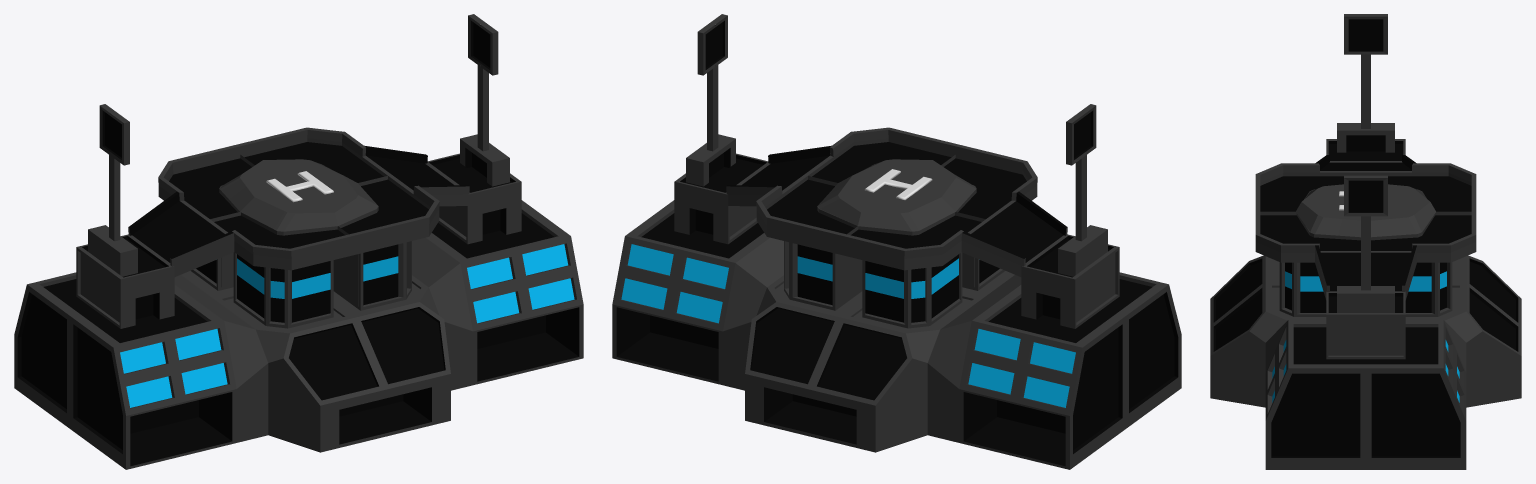
The model's file is Barracks.fbx.
3 renders of one model, left to right at view 1: azimuth 30°, elevation 25°; view 2: azimuth 150°, elevation 25°; view 3: azimuth 270°, elevation 25°, orthographic. The views are drawn at different scales.
Visible parts, largest first — view 1: Cube, Cube.001, Text; view 2: Cube, Cube.001, Text; view 3: Cube, Cube.001.
Part boxes in pixels (left/top/right/bottom): Cube: left=14, top=14, right=583, bottom=469; Cube.001: left=120, top=244, right=574, bottom=407; Text: left=266, top=171, right=333, bottom=202; Cube: left=612, top=14, right=1181, bottom=469; Cube.001: left=621, top=244, right=1075, bottom=407; Text: left=864, top=169, right=932, bottom=199; Cube: left=1210, top=14, right=1521, bottom=469; Cube.001: left=1272, top=271, right=1459, bottom=402.
Size of the model in its own units: 7 by 4.46 by 4.59.
